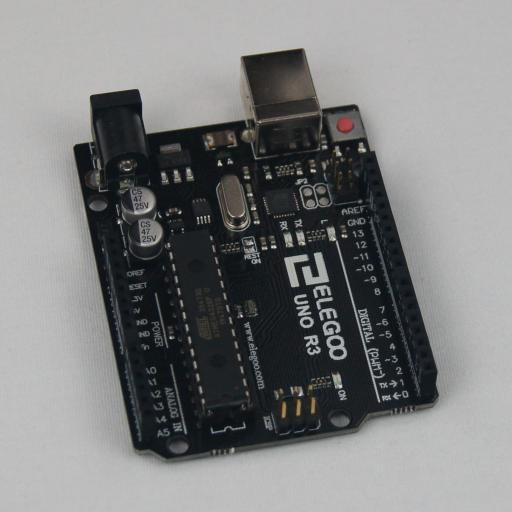Arduino Uno -Black-: (74, 48, 438, 463)
